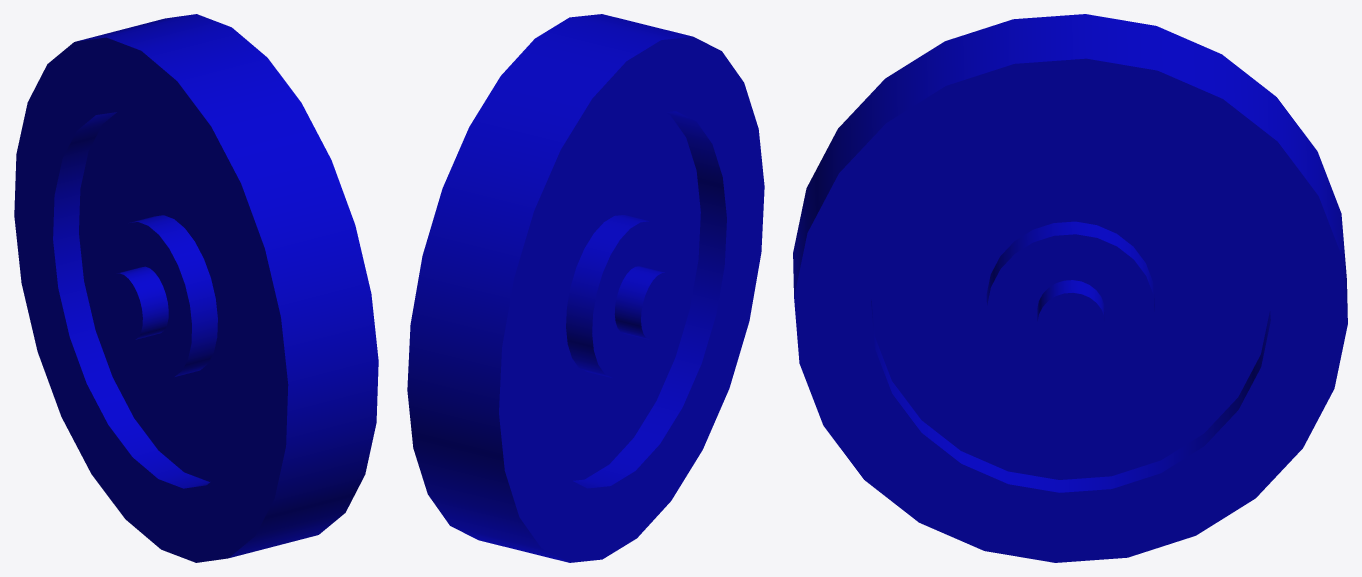
File: original-11.obj
3 views of the same model, side by side, from view 1: azimuth 30°, elevation 25°; view 2: azimuth 150°, elevation 25°; view 3: azimuth 270°, elevation 25° (orthographic). The views are drawn at different scales.
Visible parts, largest first — view 1: mesh1/mesh1-geometry#mesh1-geometry; view 2: mesh1/mesh1-geometry#mesh1-geometry; view 3: mesh1/mesh1-geometry#mesh1-geometry.
Part boxes in pixels (x1,y1,x2,y2): mesh1/mesh1-geometry#mesh1-geometry: [14, 14, 378, 562]; mesh1/mesh1-geometry#mesh1-geometry: [407, 14, 764, 562]; mesh1/mesh1-geometry#mesh1-geometry: [793, 14, 1347, 562].
Size of the model in its own units: 0.0779 by 0.2537 by 0.2537.
